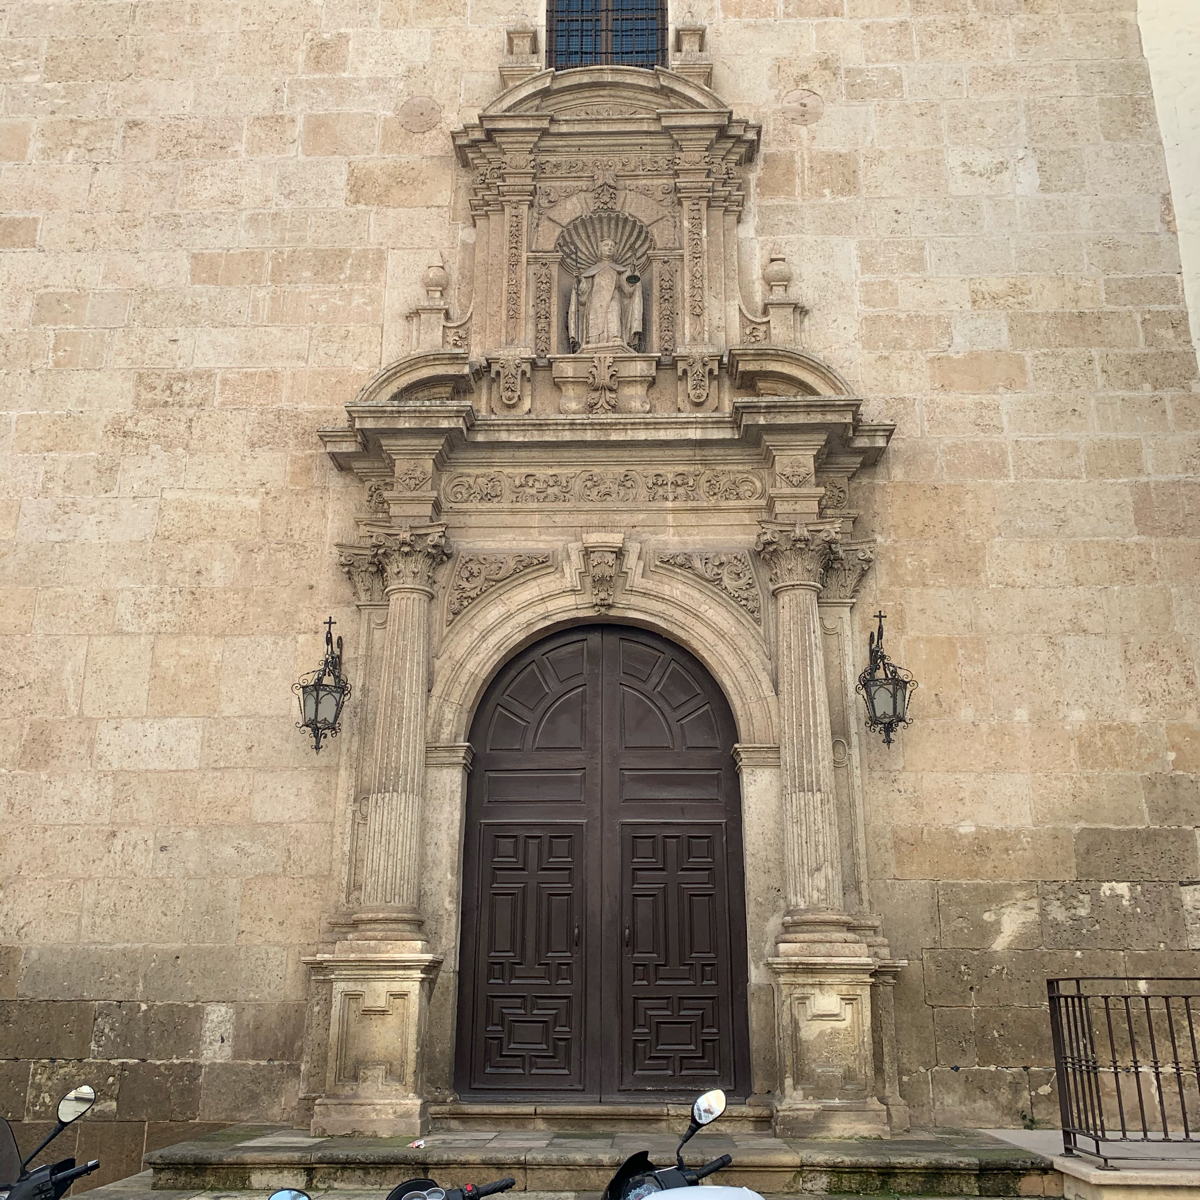arco-medio-punto: (453, 595, 762, 795)
fronton-partido: (358, 345, 873, 432), (481, 59, 746, 135)
